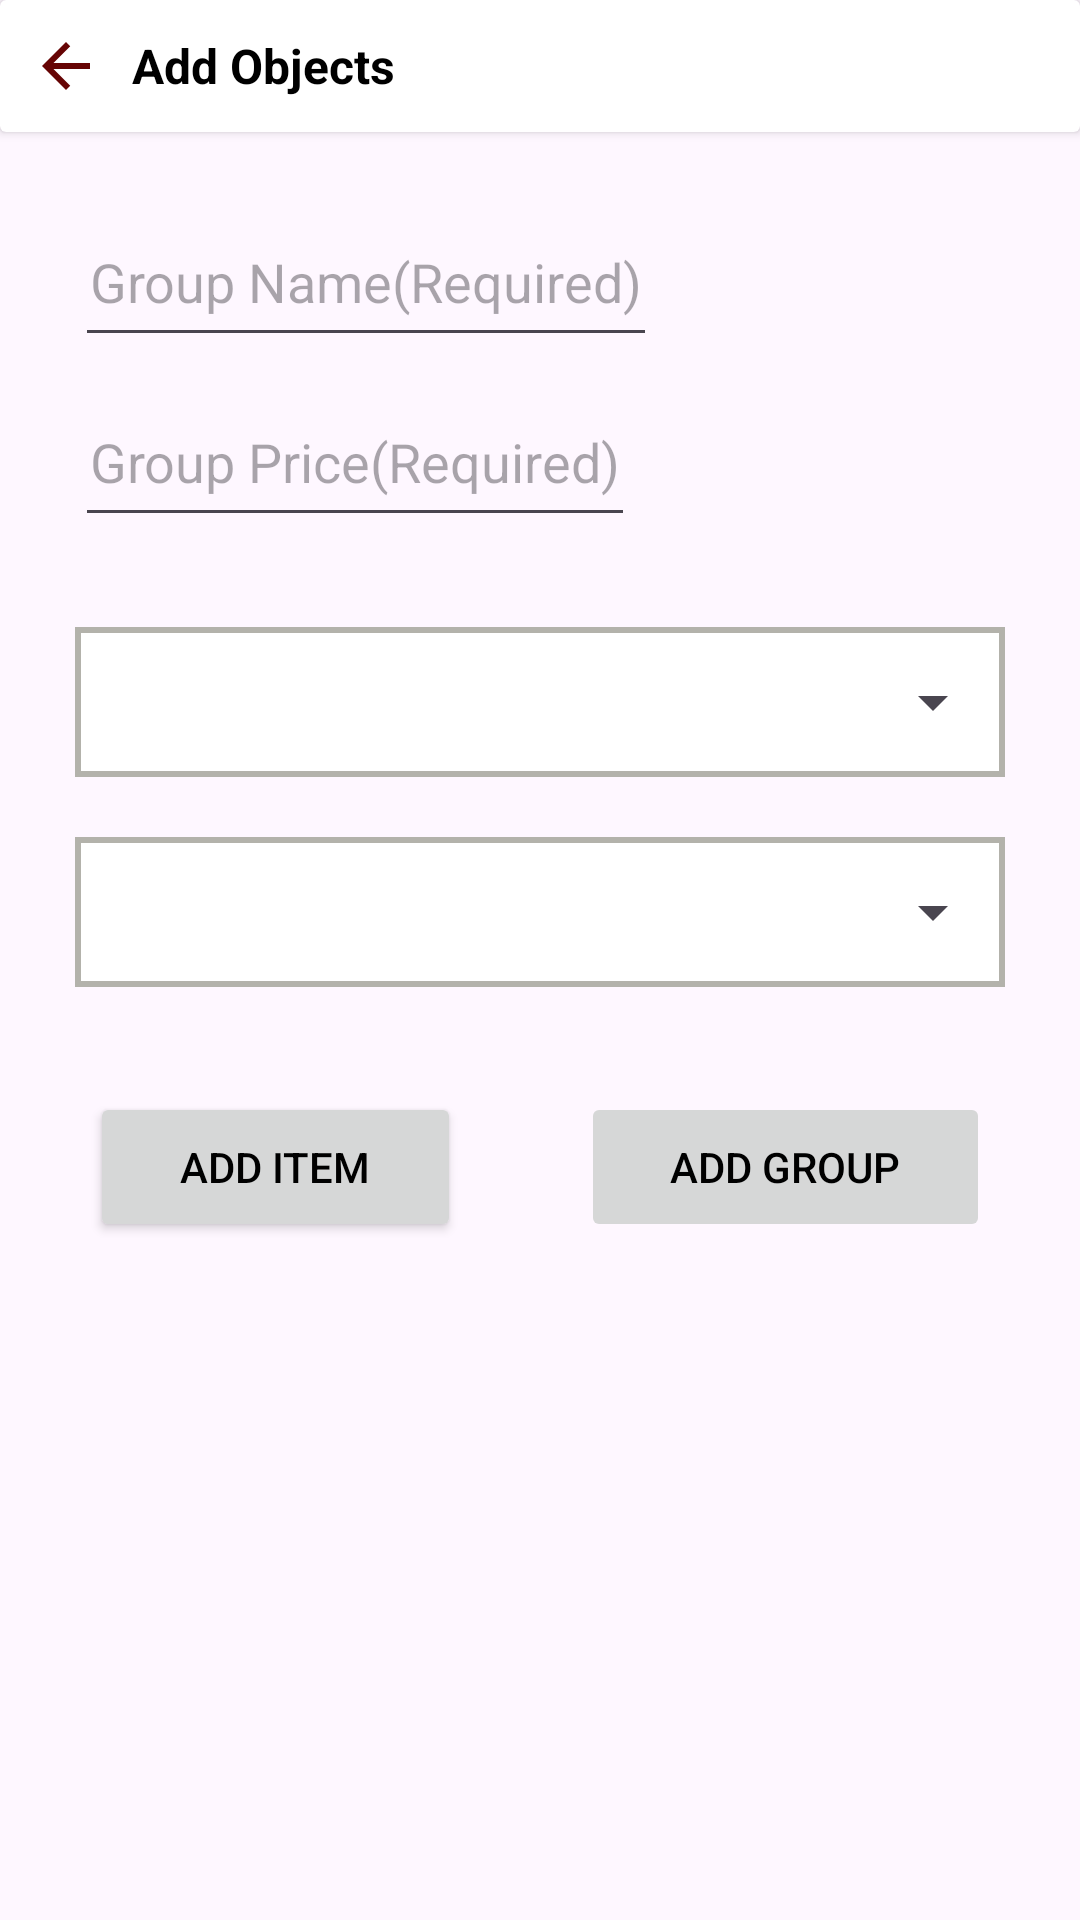

Point at icon controls on the screen. Image size 1080 x 1920, points as (x,y).
Back: (66,66)
